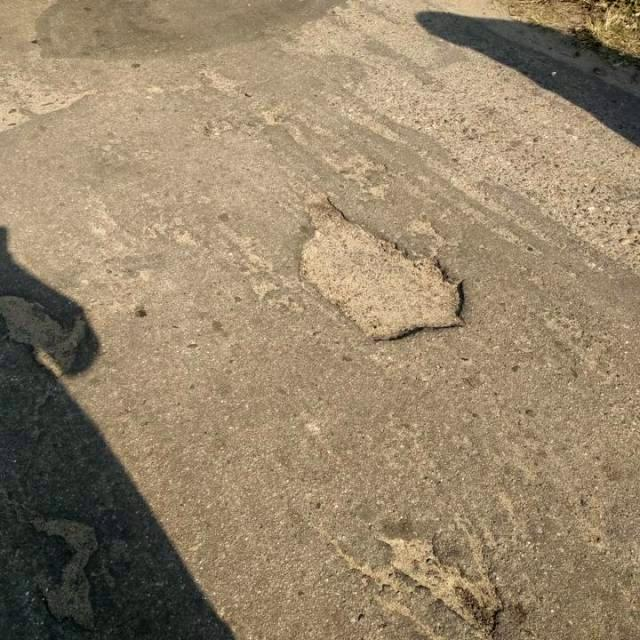Pothole: (290, 188, 474, 345), (372, 530, 513, 639)
